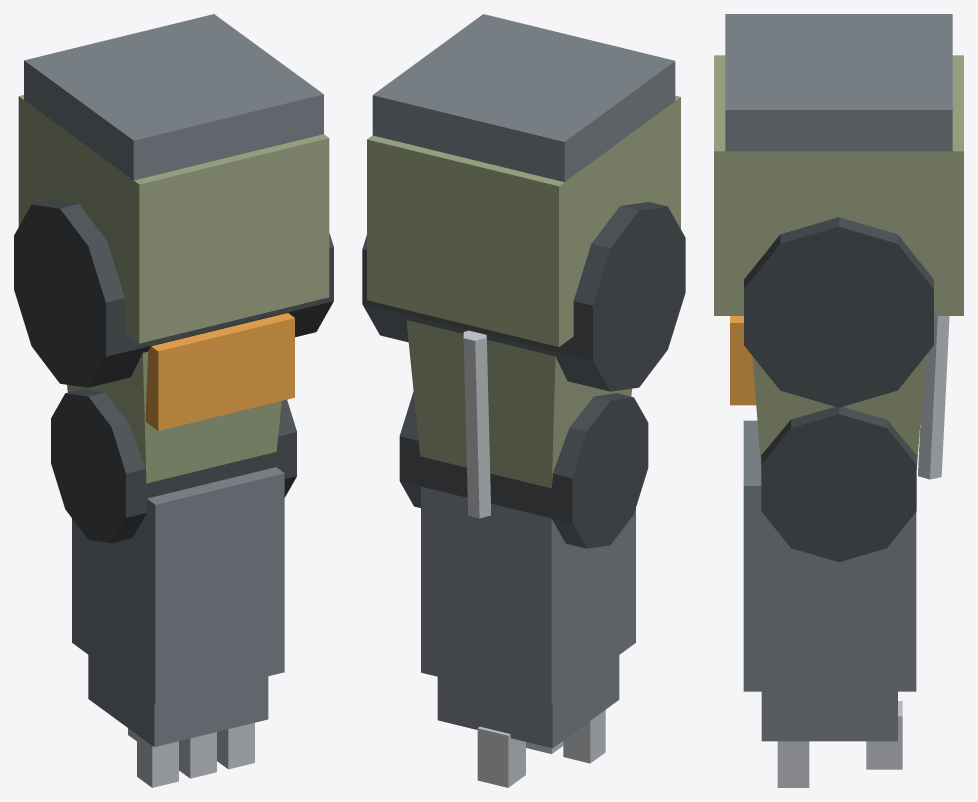
The model's file is mod-line-mech-left-arm-26833.glb.
3 views of the same model, side by side, from view 1: azimuth 30°, elevation 25°; view 2: azimuth 150°, elevation 25°; view 3: azimuth 270°, elevation 25° (orthographic). The views are drawn at different scales.
Size of the model in its own units: 2.53 by 7.17 by 2.32.
